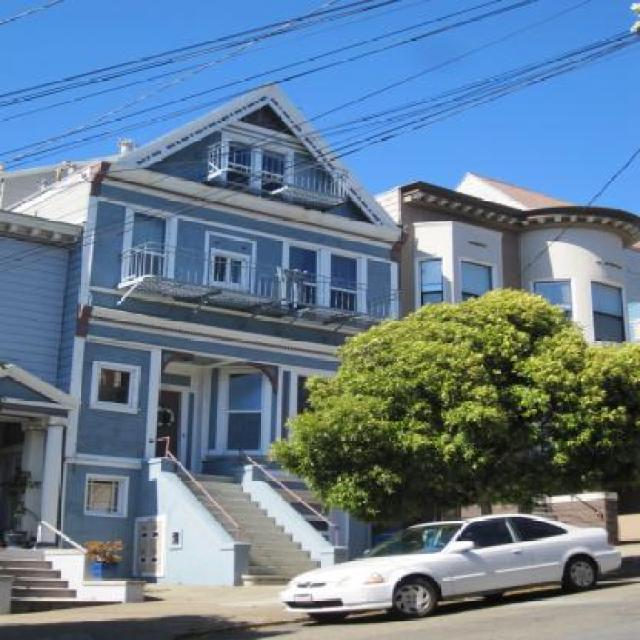stair: (177, 477, 320, 586), (1, 549, 84, 609)
